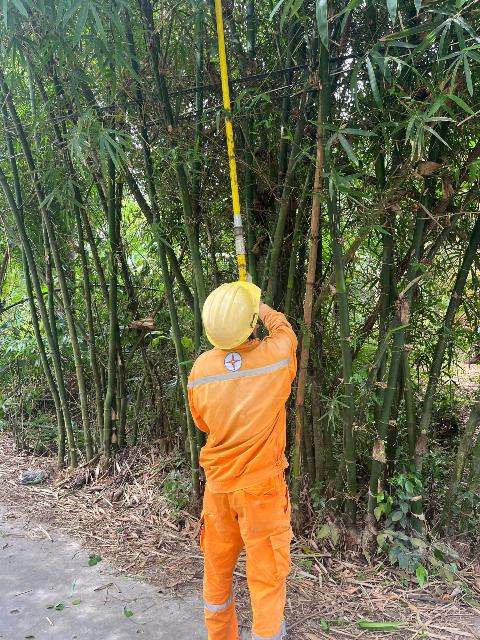helmet: (199, 280, 275, 351)
